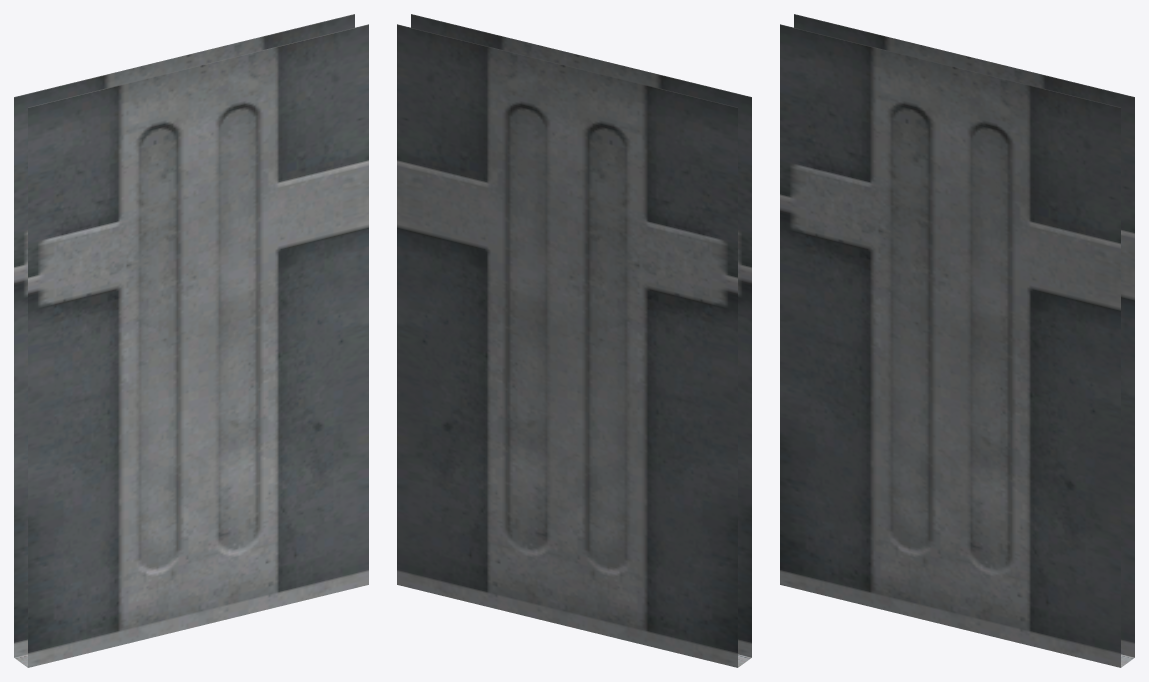
Rendered from door_star_destroyer_s01.fbx.
3 renders of one model, left to right at view 1: azimuth 30°, elevation 25°; view 2: azimuth 150°, elevation 25°; view 3: azimuth 330°, elevation 25°, orthographic.
Parts seen in each view (by area): view 1: mesh_node; view 2: mesh_node; view 3: mesh_node.
Part boxes in pixels (box(x1,y1,x2,y2)): mesh_node: box(14, 14, 368, 667); mesh_node: box(397, 14, 751, 667); mesh_node: box(780, 14, 1134, 667).
Size of the model in its own units: 2.8 by 4.4 by 0.2.
